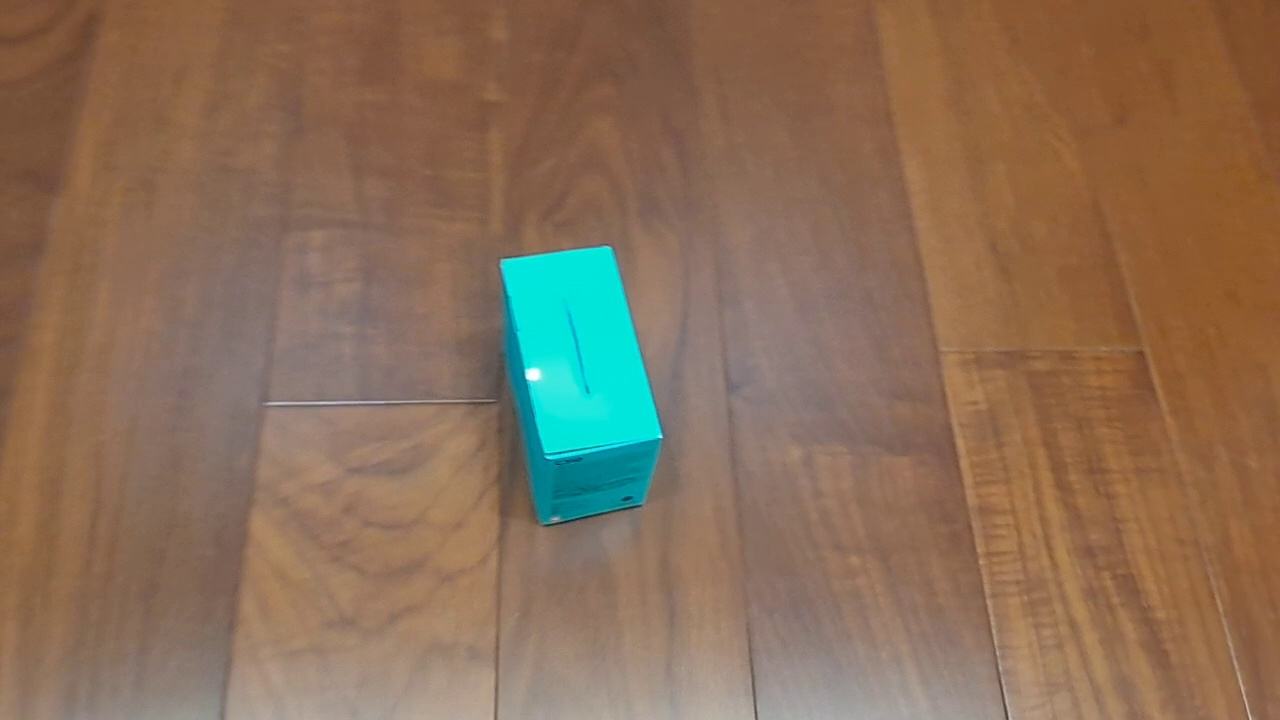webcam: (498, 244, 664, 527)
